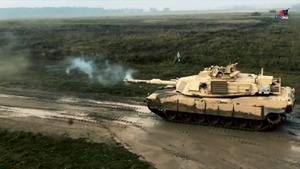abrams: (125, 63, 296, 130)
